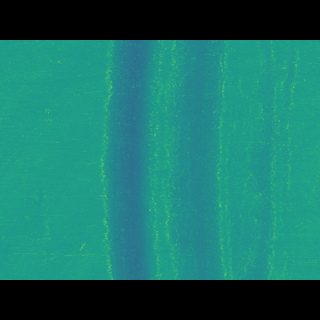Loch: (99, 69, 298, 249)
